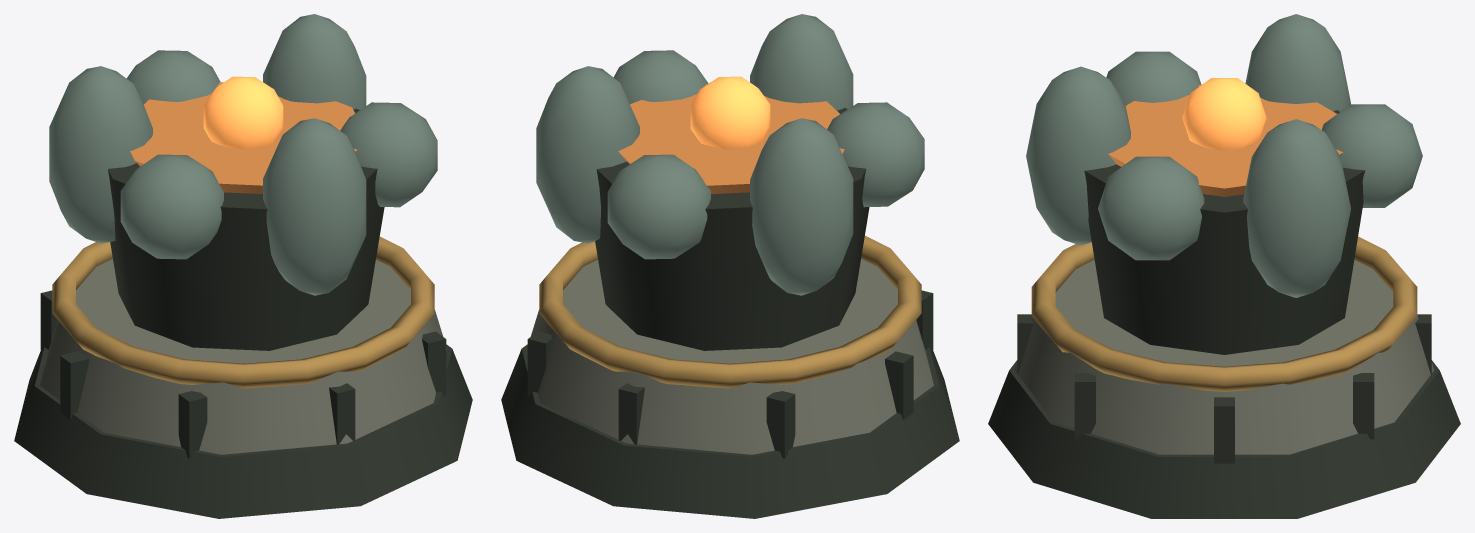
Rendered from tower_meteor_meteorEmber.glb.
3 views of the same model, side by side, from view 1: azimuth 30°, elevation 25°; view 2: azimuth 150°, elevation 25°; view 3: azimuth 270°, elevation 25° (orthographic).
Parts seen in each view (by area): view 1: stone_1, foot_0, crucible_11, basalt_16, rim_2, basalt_18, basalt_17, lava_12, basalt_14, basalt_15, ember_19, basalt_13 (+5 smaller); view 2: stone_1, foot_0, crucible_11, basalt_18, rim_2, basalt_14, basalt_13, lava_12, basalt_16, basalt_17, ember_19, basalt_15 (+5 smaller); view 3: stone_1, foot_0, crucible_11, basalt_14, rim_2, basalt_16, basalt_15, lava_12, basalt_18, basalt_13, ember_19, basalt_17 (+5 smaller).
Boxes of the visible parts, bbox=[...] form: stone_1: bbox=[40, 258, 446, 454]; foot_0: bbox=[14, 344, 472, 518]; crucible_11: bbox=[108, 108, 384, 350]; basalt_16: bbox=[263, 118, 366, 295]; rim_2: bbox=[52, 236, 434, 388]; basalt_18: bbox=[49, 66, 152, 243]; basalt_17: bbox=[120, 154, 223, 259]; lava_12: bbox=[130, 82, 357, 193]; basalt_14: bbox=[263, 14, 366, 109]; basalt_15: bbox=[340, 102, 437, 207]; ember_19: bbox=[203, 76, 283, 149]; basalt_13: bbox=[126, 50, 220, 104]; stone_1: bbox=[527, 258, 933, 454]; foot_0: bbox=[501, 344, 959, 518]; crucible_11: bbox=[595, 107, 869, 350]; basalt_18: bbox=[750, 118, 853, 295]; rim_2: bbox=[539, 235, 921, 388]; basalt_14: bbox=[536, 66, 639, 243]; basalt_13: bbox=[607, 154, 710, 259]; lava_12: bbox=[618, 84, 844, 193]; basalt_16: bbox=[750, 14, 853, 110]; basalt_17: bbox=[827, 102, 924, 207]; ember_19: bbox=[690, 76, 770, 149]; basalt_15: bbox=[613, 50, 708, 103]; stone_1: bbox=[1014, 260, 1434, 454]; foot_0: bbox=[988, 360, 1460, 518]; crucible_11: bbox=[1084, 110, 1365, 354]; basalt_14: bbox=[1243, 119, 1350, 297]; rim_2: bbox=[1031, 236, 1417, 391]; basalt_16: bbox=[1026, 66, 1130, 245]; basalt_15: bbox=[1098, 156, 1204, 260]; lava_12: bbox=[1108, 84, 1343, 196]; basalt_18: bbox=[1245, 14, 1350, 111]; basalt_13: bbox=[1322, 104, 1422, 207]; ember_19: bbox=[1182, 78, 1266, 150]; basalt_17: bbox=[1106, 51, 1201, 105].
Size of the model in its own units: 0.5326 by 0.467 by 0.56.
